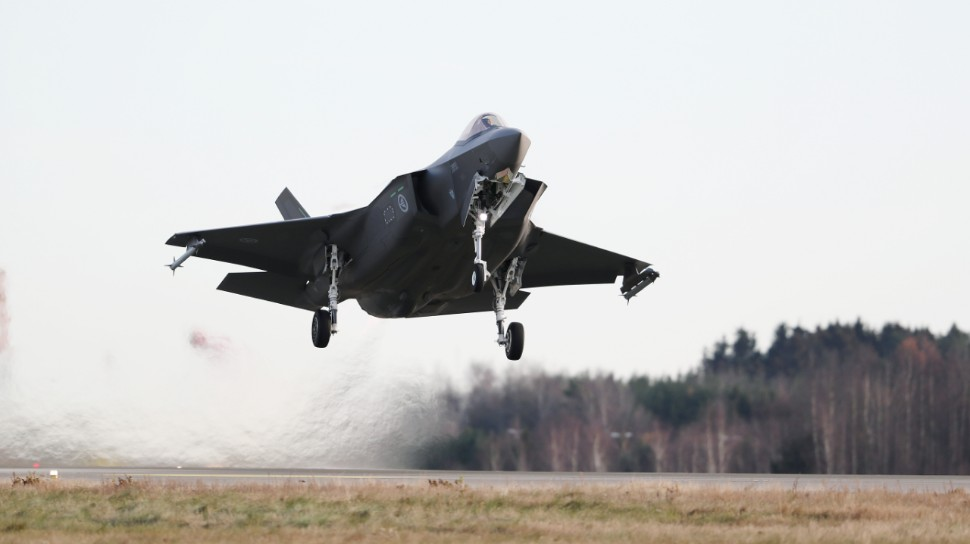F-35 Lightning: (139, 88, 716, 398)
